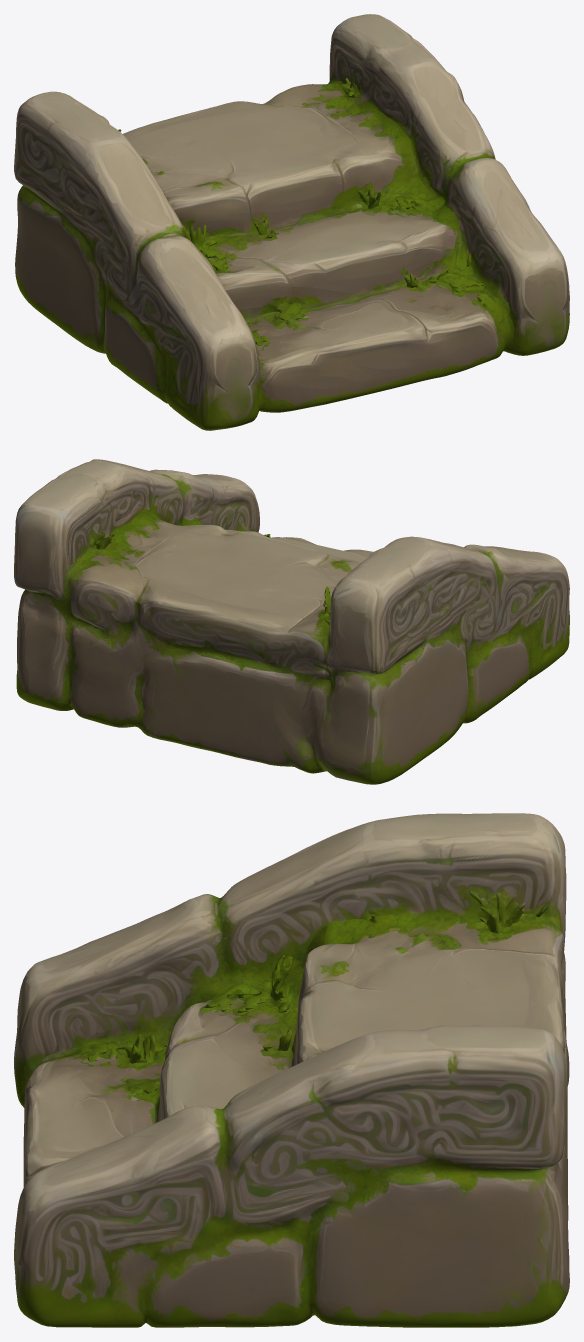
File: origin_mossy_steps.glb
3 views of the same model, one above another, from view 1: azimuth 30°, elevation 25°; view 2: azimuth 150°, elevation 25°; view 3: azimuth 270°, elevation 25° (orthographic). The views are drawn at different scales.
Parts seen in each view (by area): view 1: textured_mesh.obj; view 2: textured_mesh.obj; view 3: textured_mesh.obj.
Part boxes in pixels (x1=…): textured_mesh.obj: x1=14, y1=14, x2=569, y2=430; textured_mesh.obj: x1=14, y1=459, x2=569, y2=784; textured_mesh.obj: x1=14, y1=813, x2=569, y2=1327.
Bounding box in the file's own units: 1.99 × 1.04 × 1.86.
Materials: 1 (1 with a texture image).
